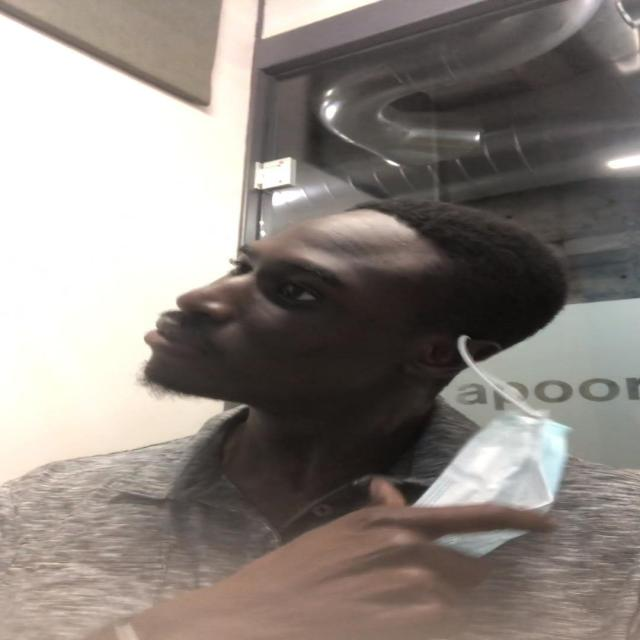face: (142, 220, 464, 406)
